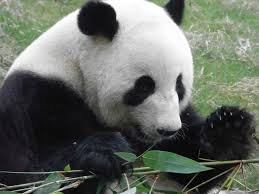panda: (20, 5, 218, 168)
